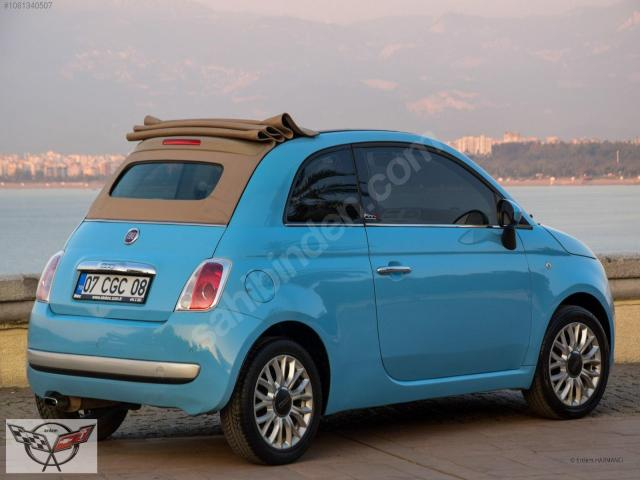plaka: (73, 273, 152, 303)
